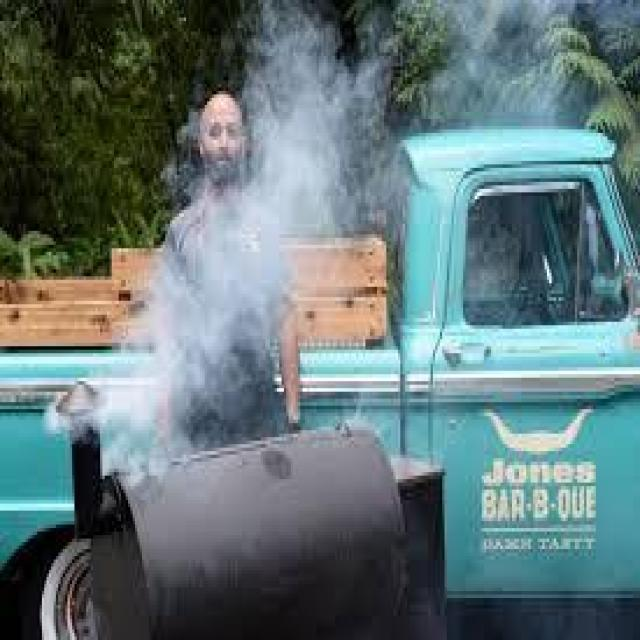Smoke: (102, 19, 391, 446), (438, 8, 606, 132)
